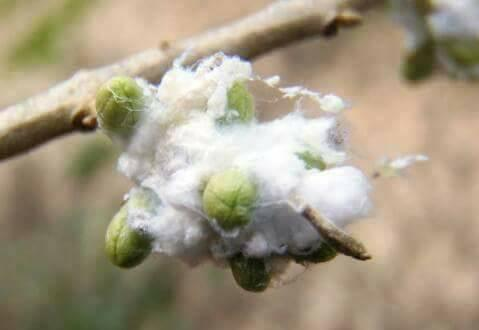Psyllid: (76, 46, 402, 293)
